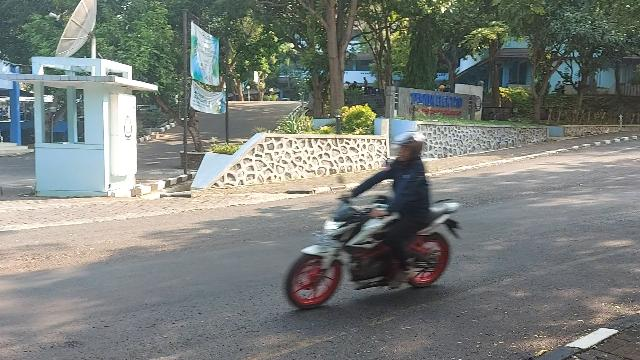helm: (392, 133, 424, 164)
motor: (286, 180, 463, 310)
